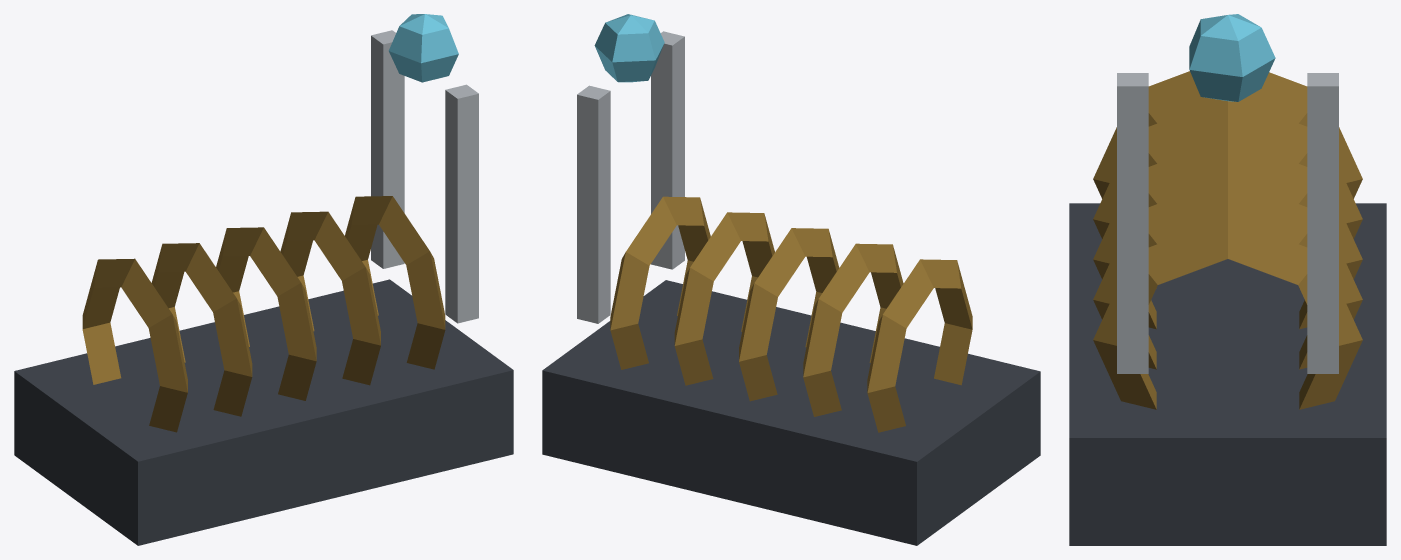
Rendered from mod-oscillator.glb.
3 renders of one model, left to right at view 1: azimuth 30°, elevation 25°; view 2: azimuth 150°, elevation 25°; view 3: azimuth 270°, elevation 25°, orthographic. The views are drawn at different scales.
Visible parts, largest first — view 1: m; view 2: m; view 3: m.
Part boxes in pixels (x1=…): m: x1=14, y1=14, x2=513, y2=545; m: x1=542, y1=14, x2=1040, y2=545; m: x1=1069, y1=14, x2=1386, y2=545.
Size of the model in its own units: 0.07 by 0.0708 by 0.0396.
